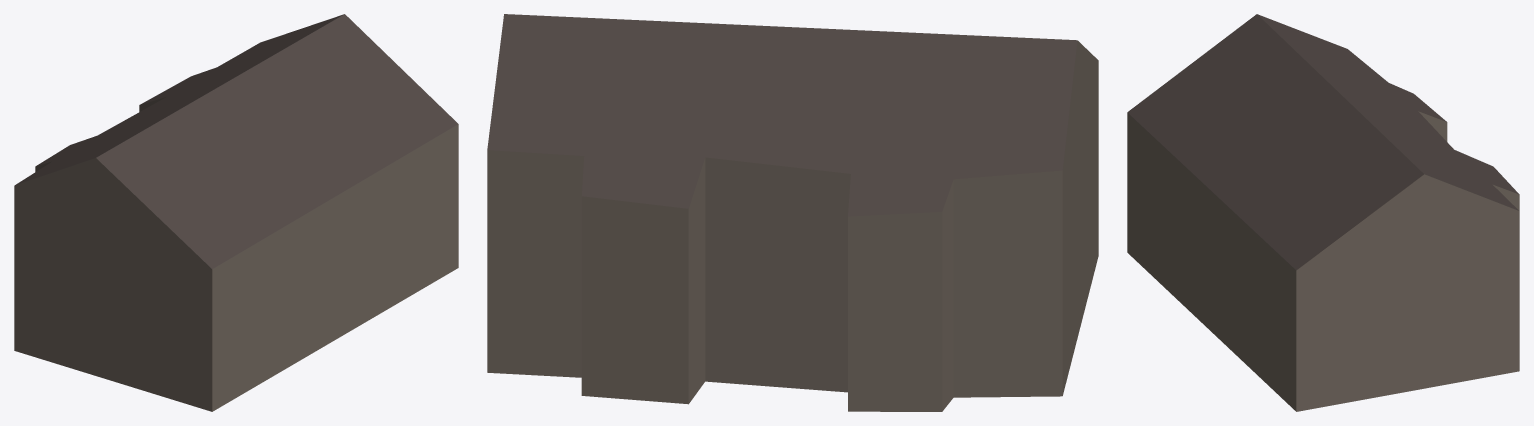
The picture shows the model from 3 angles, left to right: view 1: azimuth 30°, elevation 25°; view 2: azimuth 150°, elevation 25°; view 3: azimuth 270°, elevation 25°; orthographic projection. The views are drawn at different scales.
Visible parts, largest first — view 1: HP-w1515076968; view 2: HP-w1515076968; view 3: HP-w1515076968.
Part boxes in pixels (x1,y1,x2,y2): HP-w1515076968: (14, 14, 458, 411); HP-w1515076968: (487, 14, 1098, 411); HP-w1515076968: (1127, 14, 1519, 411).
Bounding box in the file's own units: 27.59 × 13.76 × 22.82.
